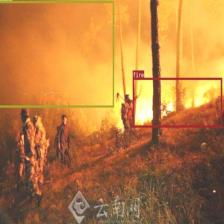fire: (133, 77, 222, 127)
smoke: (0, 0, 114, 107)
